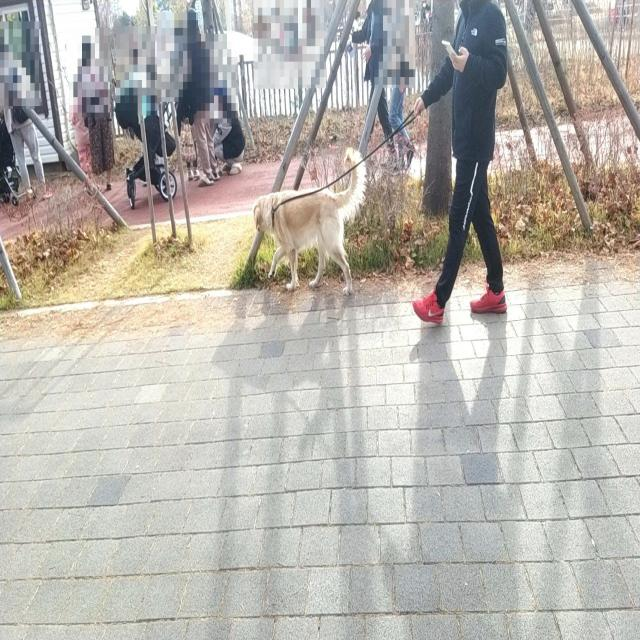Leashed_Dog: (252, 89, 475, 326)
